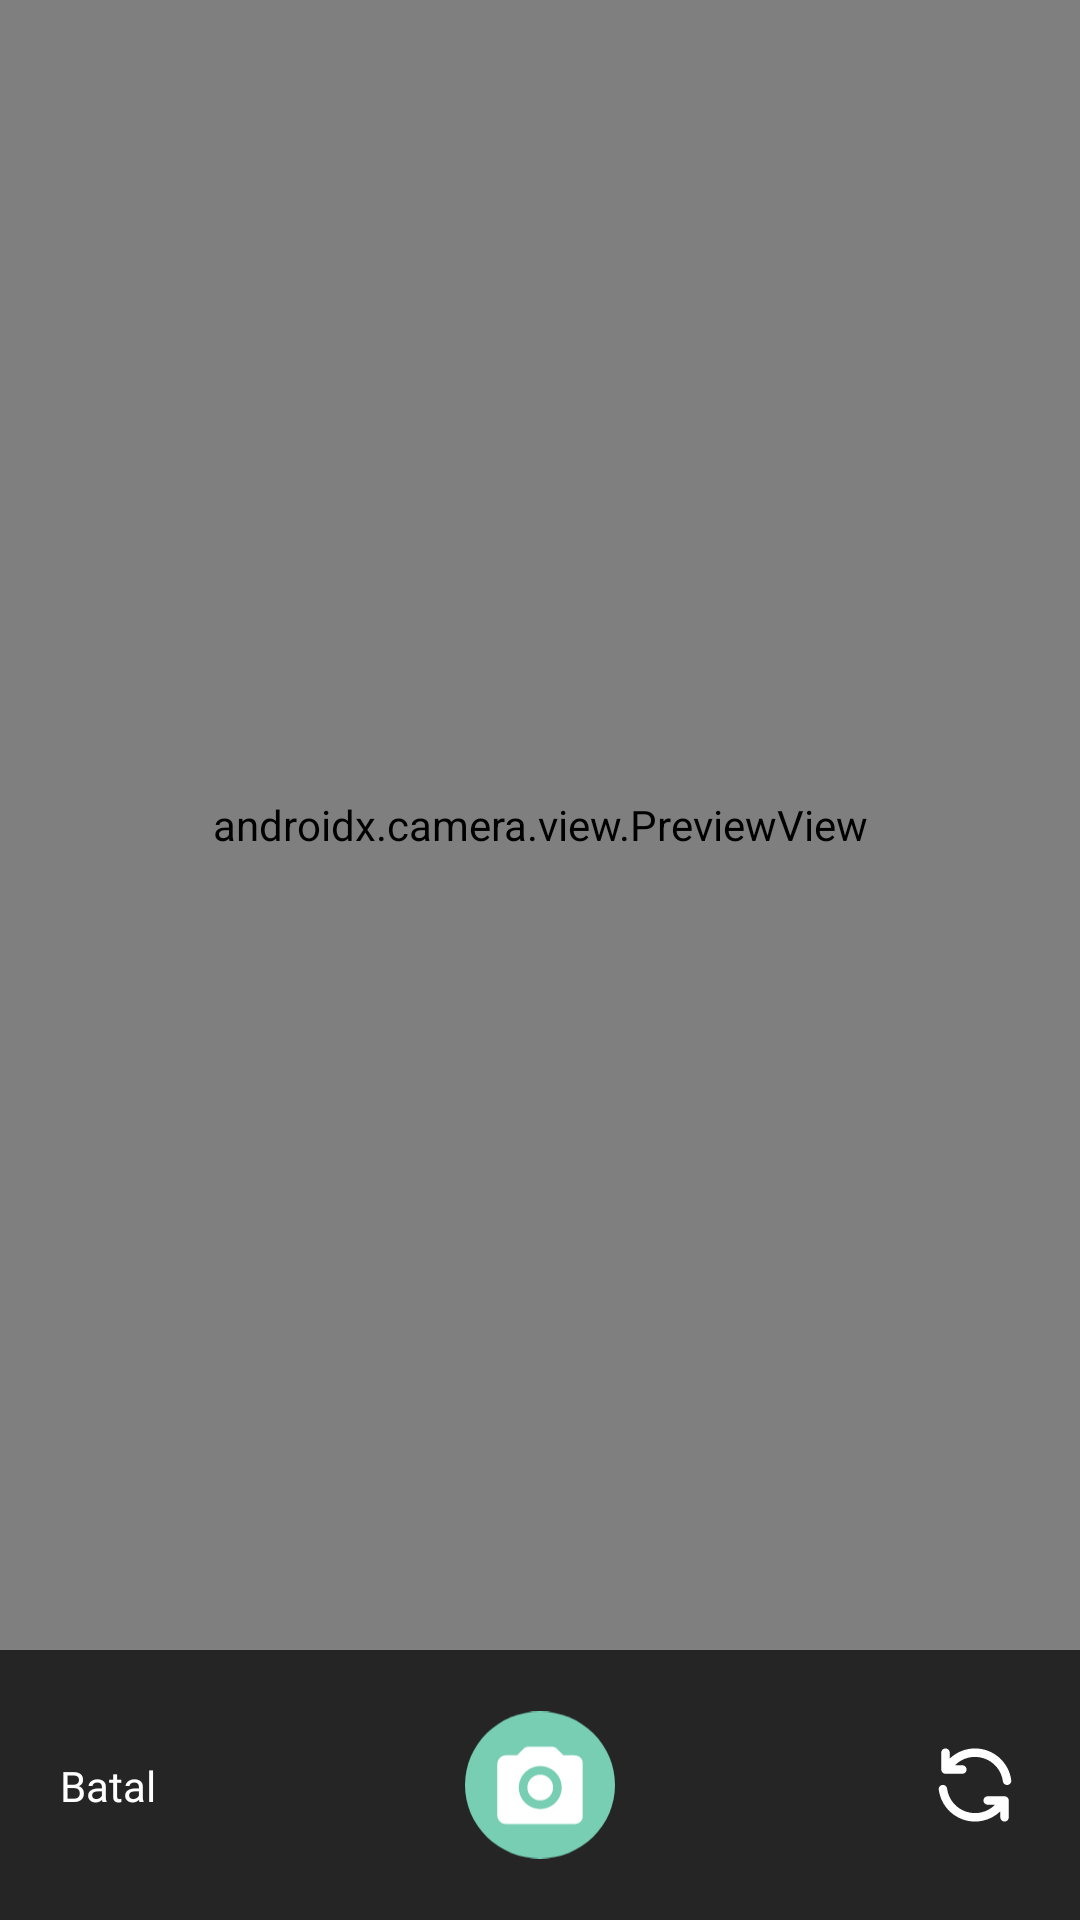

Icon bounding boxes for this 1080x1920 phone screenshot, format (x1, y1, x2, y2):
Ikon Beralih Kamera: (938, 1748, 1012, 1822)
Ikon Tangkap Kamera: (465, 1711, 615, 1859)
